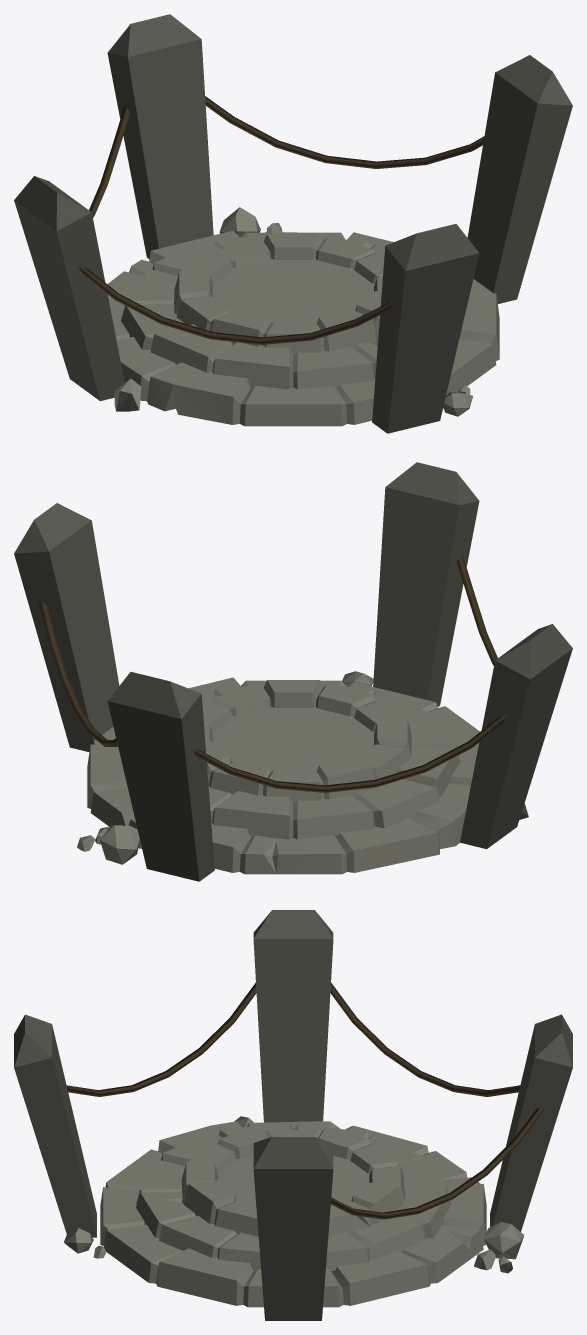
Rendered from Altar_B.FBX.
3 renders of one model, top to bottom at view 1: azimuth 30°, elevation 25°; view 2: azimuth 150°, elevation 25°; view 3: azimuth 270°, elevation 25°, orthographic. The views are drawn at different scales.
Visible parts, largest first — view 1: Box005, Cylinder018, Cylinder048, dryBig_rockA003, dryBig_rockA001, dryBig_rockA; view 2: Box005, Cylinder018, Cylinder048, dryBig_rockA003; view 3: Cylinder018, Box005, Cylinder048, dryBig_rockA003, dryBig_rockA.
Part boxes in pixels (left/top/right/bottom): Box005: left=14, top=14, right=572, bottom=433; Cylinder018: left=107, top=230, right=499, bottom=426; Cylinder048: left=78, top=96, right=484, bottom=344; dryBig_rockA003: left=219, top=207, right=260, bottom=237; dryBig_rockA001: left=114, top=378, right=141, bottom=411; dryBig_rockA: left=443, top=392, right=472, bottom=416; Box005: left=14, top=462, right=572, bottom=881; Cylinder018: left=87, top=677, right=479, bottom=874; Cylinder048: left=38, top=554, right=508, bottom=792; dryBig_rockA003: left=100, top=825, right=139, bottom=864; Cylinder018: left=100, top=1121, right=486, bottom=1307; Box005: left=14, top=910, right=572, bottom=1320; Cylinder048: left=66, top=982, right=545, bottom=1219; dryBig_rockA003: left=484, top=1222, right=524, bottom=1259; dryBig_rockA: left=64, top=1228, right=93, bottom=1253.
Bounding box in the file's own units: 98.29 × 39.64 × 98.29.
